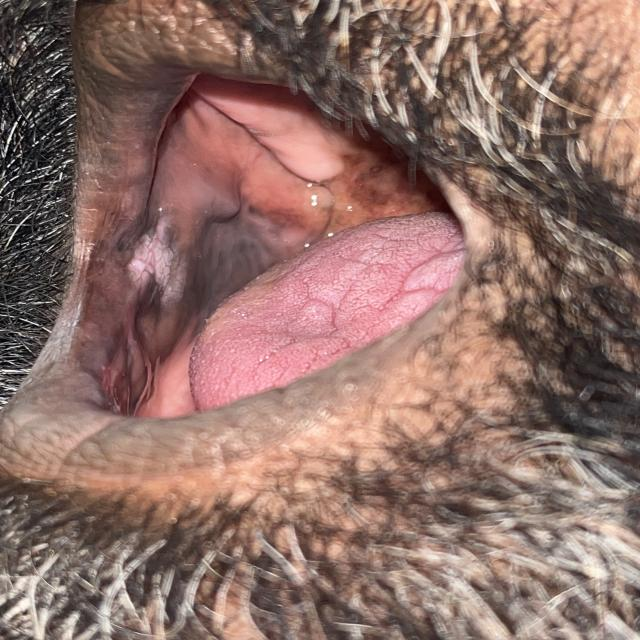leukoplakia-detection: (86, 126, 446, 409)
processing_area: (66, 97, 460, 416)
